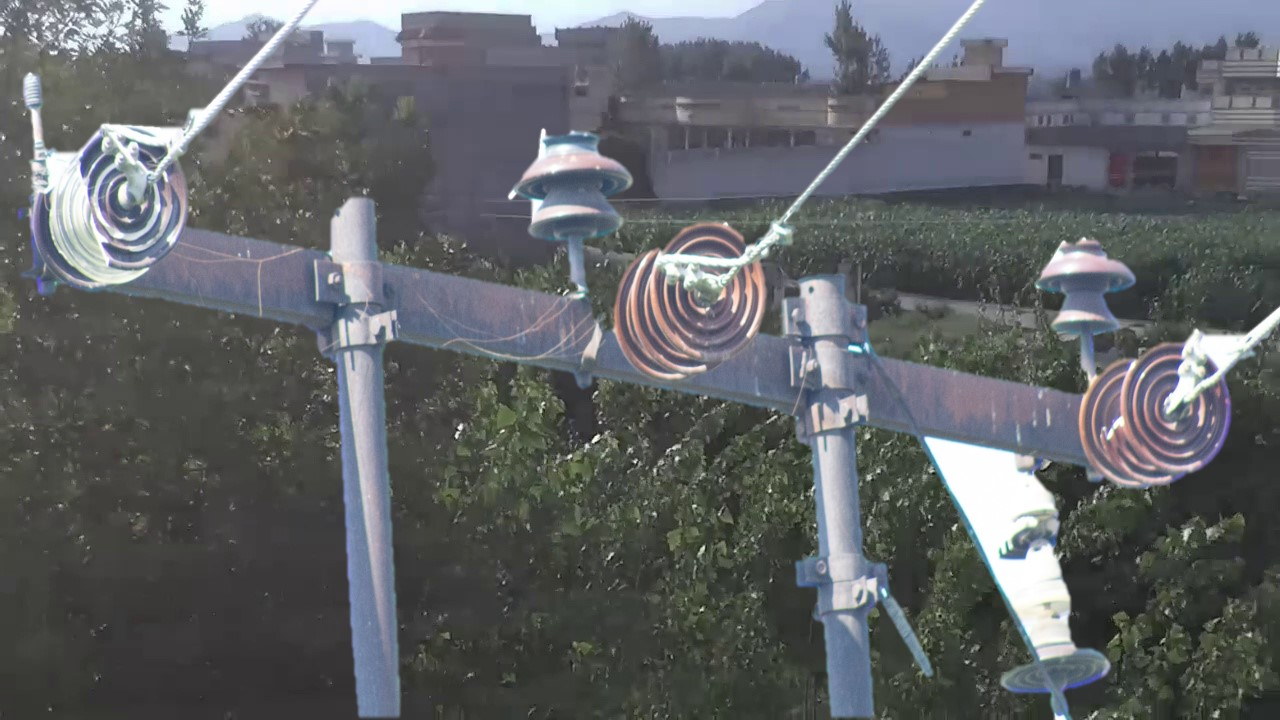defect_disc: (75, 119, 194, 276)
insulator_disc: (650, 212, 772, 367), (1117, 335, 1237, 476)
